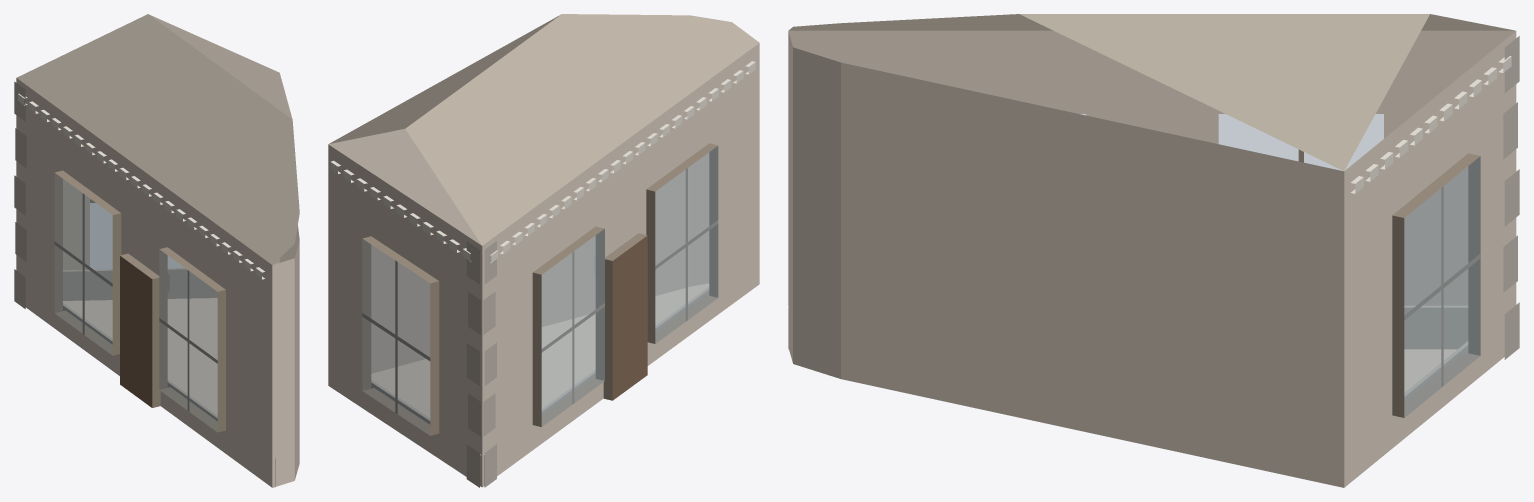
3 views of the same model, side by side, from view 1: azimuth 30°, elevation 25°; view 2: azimuth 150°, elevation 25°; view 3: azimuth 270°, elevation 25° (orthographic). The views are drawn at different scales.
Visible parts, largest first — view 1: S-45; view 2: S-45; view 3: S-45.
Part boxes in pixels (x1,y1,x2,y2): S-45: (14,14,299,487); S-45: (328,14,759,487); S-45: (788,14,1519,487).
Bounding box in the file's own units: 3.77 × 4.84 × 7.95.
